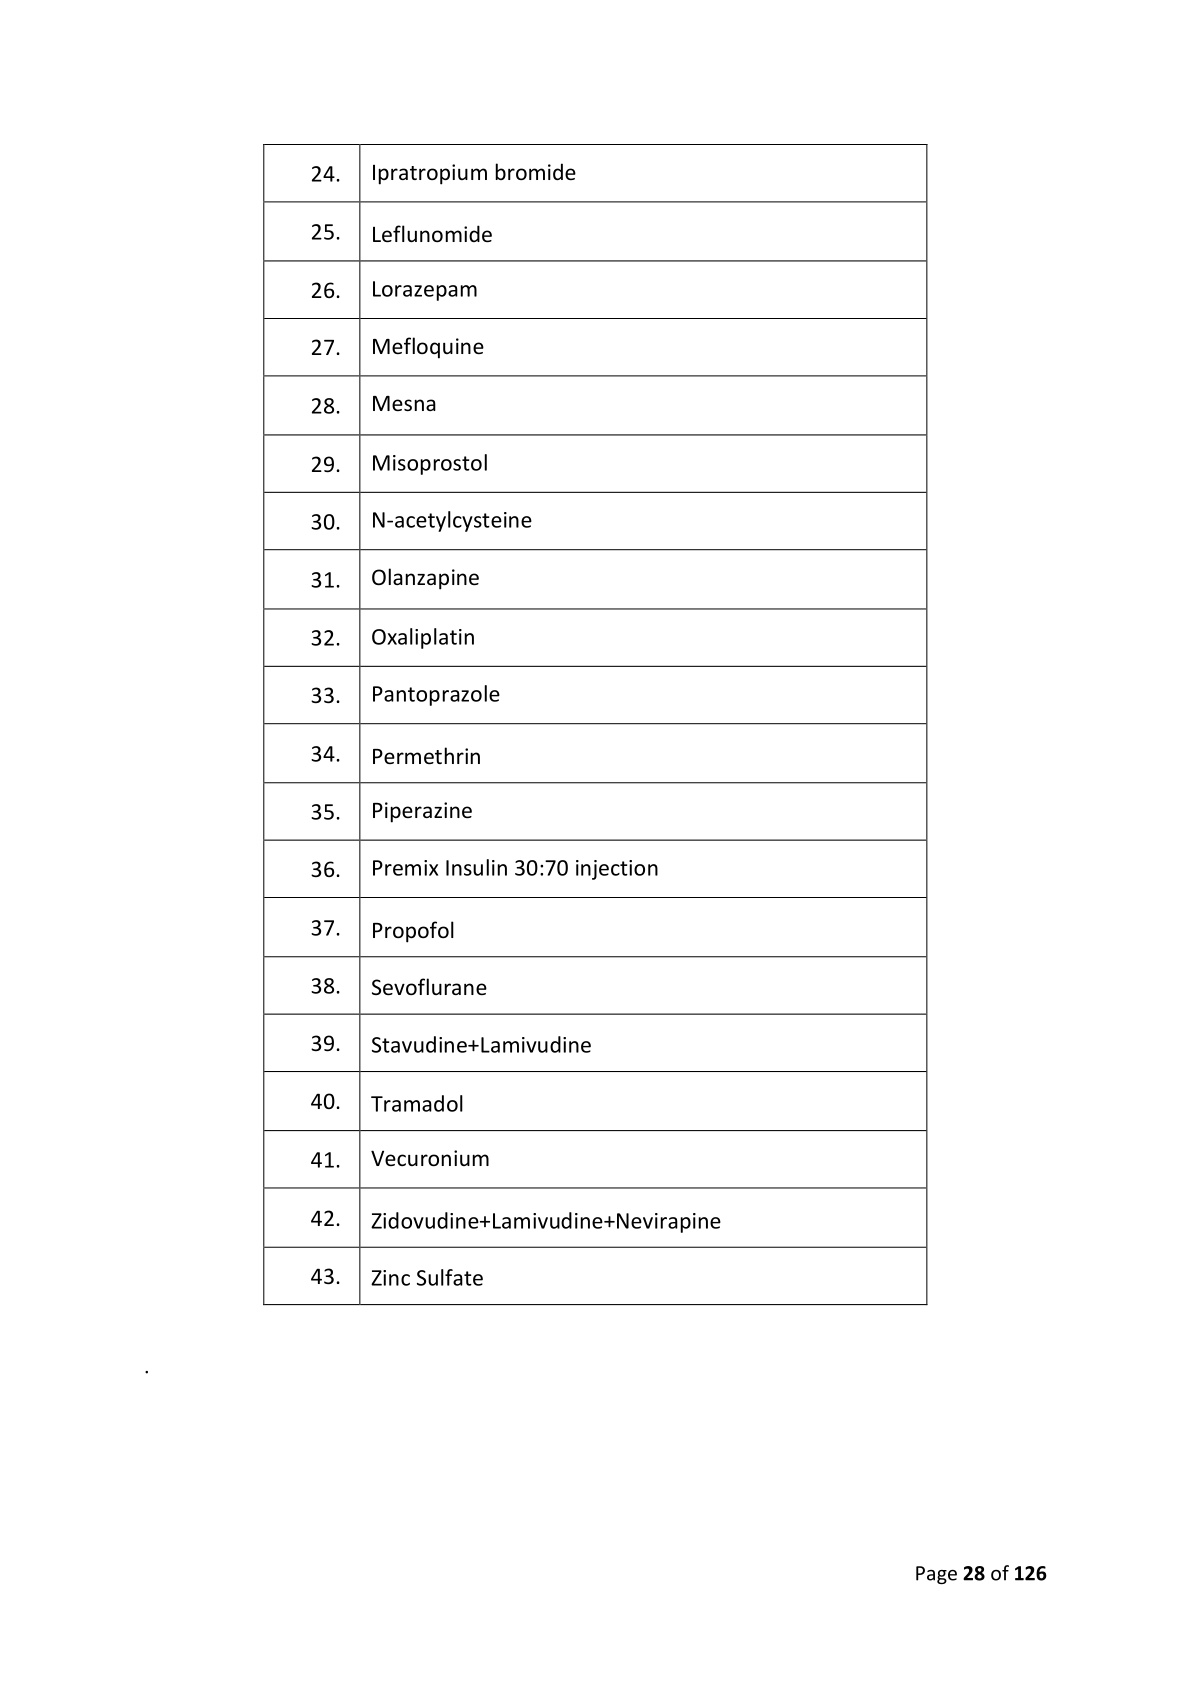full_lined: (260, 142, 928, 1306)
